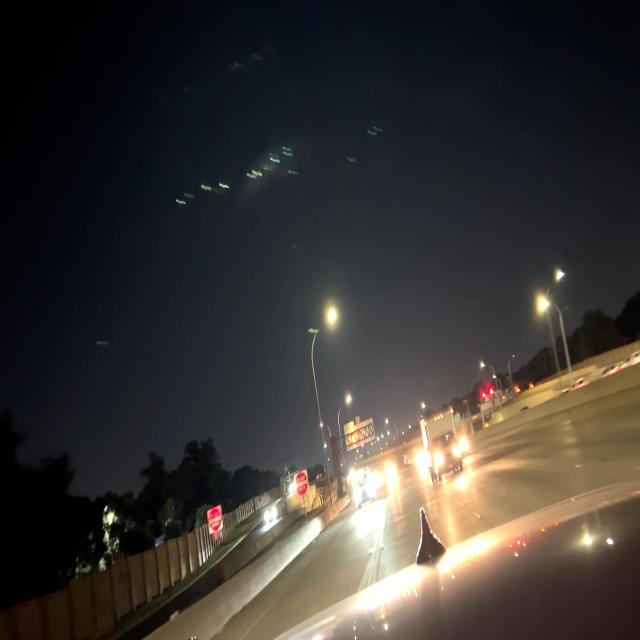back-of-sign: (343, 413, 376, 453)
